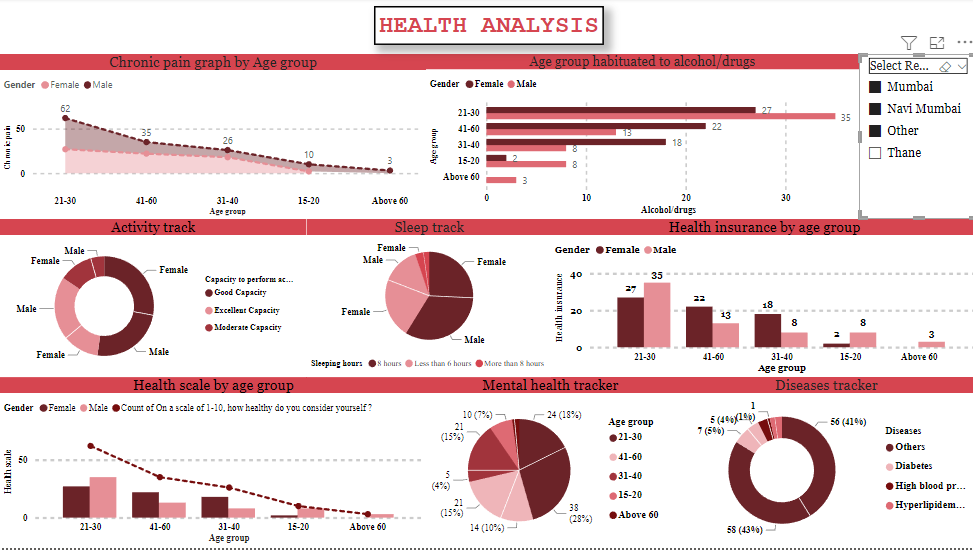

The page's visual inventory and layout, read from the dashboard file:
{"tool":"powerbi","page":{"name":"Page 1","canvas":[1280,720],"ordinal":0},"visuals":[{"type":"clusteredColumnChart","title":"Health insurance by age group","fields":{"Series":["Health Analysis.Gender"],"Category":["Health Analysis.Age group"],"Y":["CountNonNull(Health Analysis.Do you have a health insurance ? )"]},"box":[721.3,289.5,558.7,206.6],"z":0},{"type":"slicer","fields":{"Values":["Health Analysis.Select your region of residence"]},"box":[1124.6,73.9,155.1,215.9],"z":1000},{"type":"lineClusteredColumnComboChart","title":"Health scale by age group","fields":{"Category":["Health Analysis.Age group"],"Series":["Health Analysis.Gender"],"Y":["CountNonNull(Health Analysis.On a scale of 1-10, how healthy do you consider yourself ?)"],"Y2":["CountNonNull(Health Analysis.On a scale of 1-10, how healthy do you consider yourself ?)"]},"box":[0,496.1,558.7,223.5],"z":2000},{"type":"stackedAreaChart","title":"Chronic pain graph by Age group ","fields":{"Category":["Health Analysis.Age group"],"Y":["CountNonNull(Health Analysis.Do you experience any chronic pain ?)"],"Series":["Health Analysis.Gender"]},"box":[0,73.4,558.3,216.1],"z":3000},{"type":"donutChart","title":"Activity track","fields":{"Category":["Health Analysis.In your opinion, at what capacity can you perform everyday activities ? "],"Series":["Health Analysis.Gender"],"Y":["CountNonNull(Health Analysis.Gender)"]},"box":[0,289.5,401.3,206.6],"z":4000},{"type":"clusteredBarChart","title":"Age group  habituated to alcohol/drugs","fields":{"Y":["CountNonNull(Health Analysis.Are you habituated to alcohol/drugs ?)"],"Series":["Health Analysis.Gender"],"Category":["Health Analysis.Age group"]},"box":[558.3,73.4,566.6,216.1],"z":5000},{"type":"pieChart","title":"Mental health tracker","fields":{"Category":["Health Analysis.Age group"],"Y":["CountNonNull(Health Analysis.Does your mental well being has an affect on your physical health ?)"],"Series":["Health Analysis.Does your mental well being has an affect on your physical health ?"]},"box":[558.3,495.9,325.5,223],"z":6000},{"type":"donutChart","title":"Diseases tracker","fields":{"Series":["Health Analysis.Gender"],"Category":["Health Analysis.Do you have any hereditary conditions/ diseases ?"],"Y":["CountNonNull(Health Analysis.Do you have any hereditary conditions/ diseases ?)"]},"box":[883.8,495.9,396.2,223],"z":7000},{"type":"pieChart","title":"Sleep track","fields":{"Category":["Health Analysis.How much hours of sleep do you get on a daily basis ? "],"Y":["CountNonNull(Health Analysis.Gender)"],"Series":["Health Analysis.Gender"]},"box":[401.3,289.5,320,206.6],"z":8000},{"type":"shape","box":[489,11.1,300.6,51.3],"z":9000}]}

Visuals, with their boxes in screenshot pixels (x1, y1, x2, y2), scaled from the page's 1280x720 canvas onto the 973x551 screenshot:
"Health insurance by age group" clusteredColumnChart: <region>548, 222, 972, 380</region>
slicer - Health Analysis.Select your region of residence: <region>855, 57, 972, 222</region>
"Health scale by age group" lineClusteredColumnComboChart: <region>0, 380, 425, 550</region>
"Chronic pain graph by Age group " stackedAreaChart: <region>0, 56, 424, 222</region>
"Activity track" donutChart: <region>0, 222, 305, 380</region>
"Age group  habituated to alcohol/drugs" clusteredBarChart: <region>424, 56, 855, 222</region>
"Mental health tracker" pieChart: <region>424, 380, 672, 550</region>
"Diseases tracker" donutChart: <region>672, 380, 972, 550</region>
"Sleep track" pieChart: <region>305, 222, 548, 380</region>
shape: <region>372, 8, 600, 48</region>
